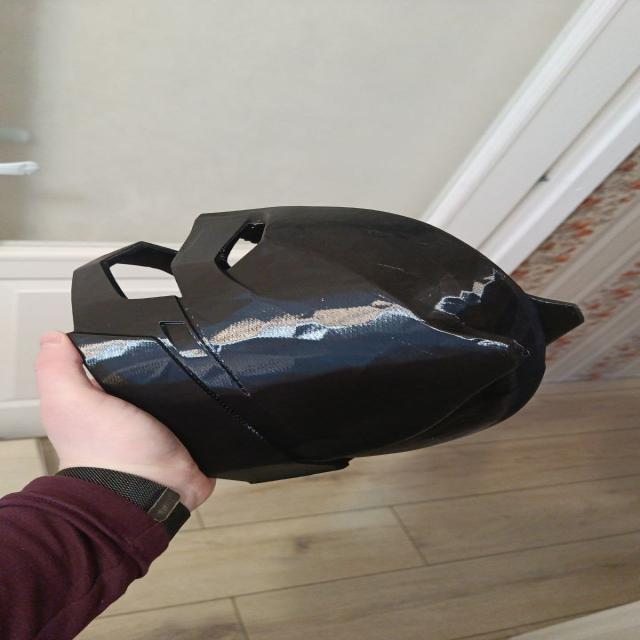Without deffect: (22, 180, 602, 489)
